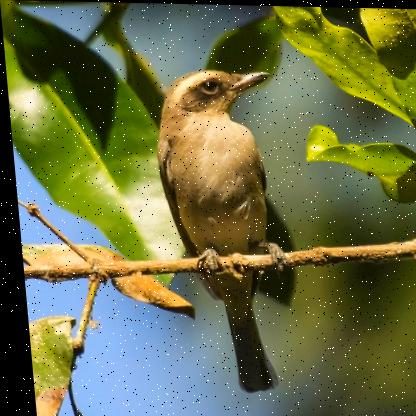Burung: (148, 68, 292, 393)
